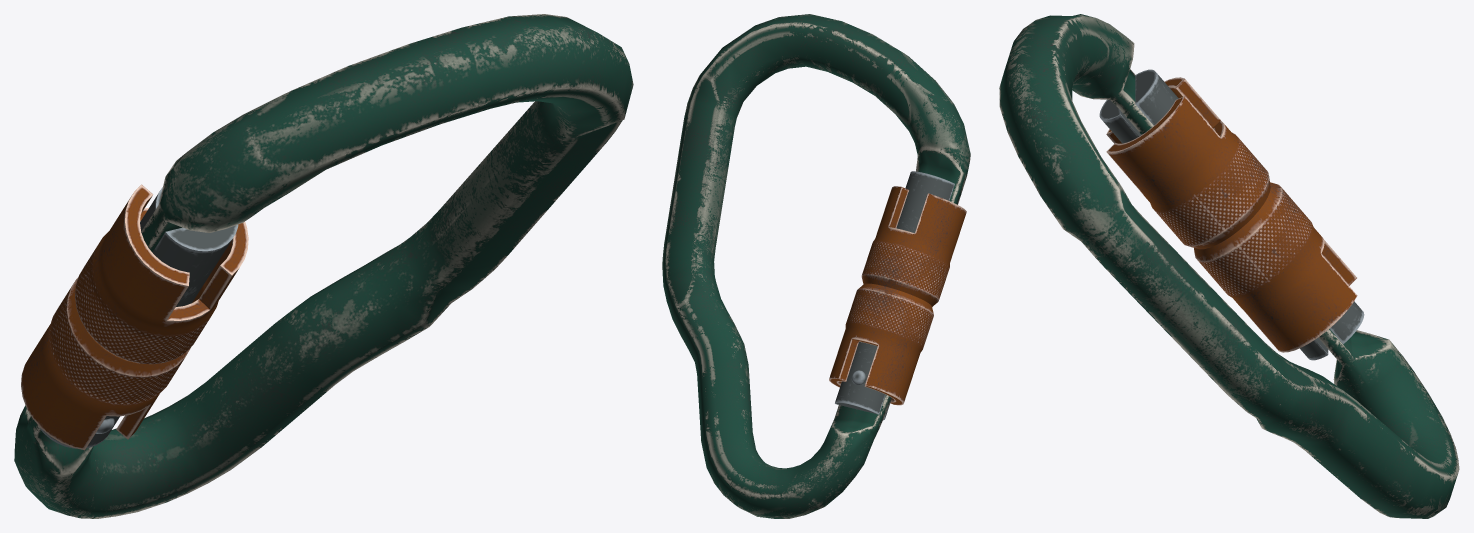
File: cara.glb
3 views of the same model, side by side, from view 1: azimuth 30°, elevation 25°; view 2: azimuth 150°, elevation 25°; view 3: azimuth 270°, elevation 25° (orthographic). The views are drawn at different scales.
Visible parts, largest first — view 1: Plane.012, Cylinder.013, Cylinder.014; view 2: Plane.012, Cylinder.013, Cylinder.014; view 3: Plane.012, Cylinder.013, Cylinder.014.
Part boxes in pixels (bbox=[...]): Plane.012: bbox=[14, 14, 633, 518]; Cylinder.013: bbox=[21, 184, 248, 450]; Cylinder.014: bbox=[40, 187, 238, 448]; Plane.012: bbox=[662, 14, 970, 518]; Cylinder.013: bbox=[829, 186, 966, 405]; Cylinder.014: bbox=[835, 171, 954, 420]; Plane.012: bbox=[999, 14, 1459, 518]; Cylinder.013: bbox=[1106, 77, 1357, 352]; Cylinder.014: bbox=[1099, 69, 1364, 360].
Size of the model in its own units: 2.92 by 3.62 by 2.97.
Materials: 1 (1 with a texture image).
